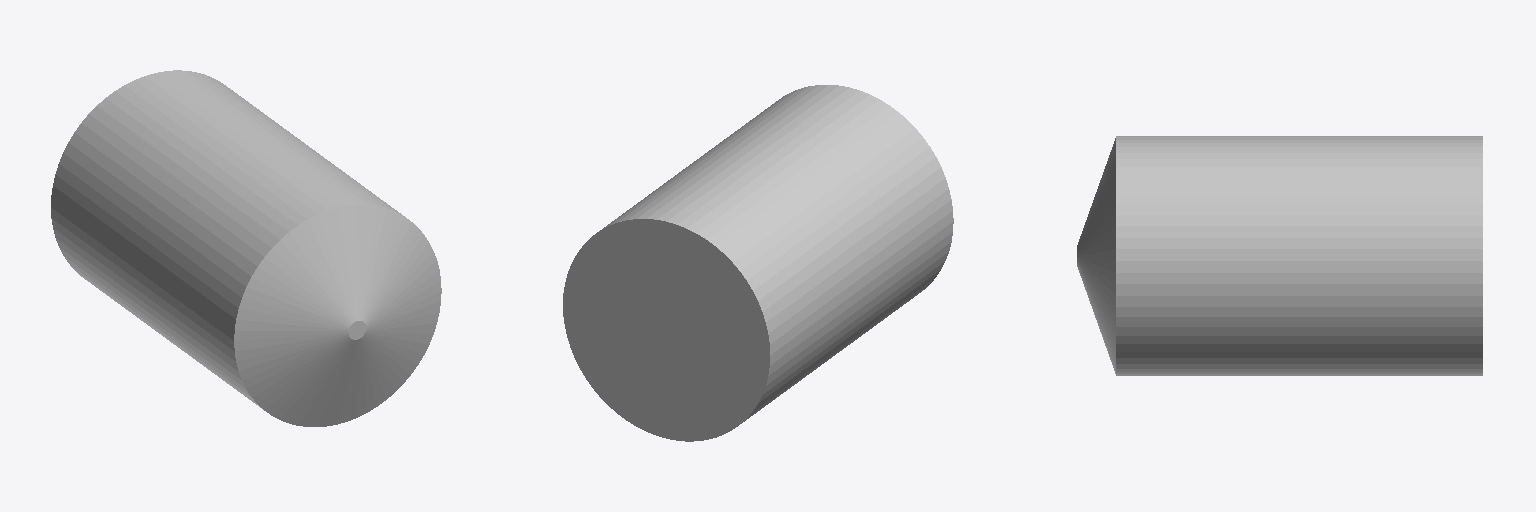
File: Candle1.obj
The picture shows the model from 3 angles: view 1: azimuth 30°, elevation 25°; view 2: azimuth 150°, elevation 25°; view 3: azimuth 270°, elevation 25°; orthographic projection.
Parts seen in each view (by area): view 1: Candle1_Cylinder.004; view 2: Candle1_Cylinder.004; view 3: Candle1_Cylinder.004.
Boxes of the visible parts, <box> form: Candle1_Cylinder.004: <box>51,70,441,426</box>; Candle1_Cylinder.004: <box>563,85,953,441</box>; Candle1_Cylinder.004: <box>1077,136,1482,375</box>.
Size of the model in its own units: 0.1106 by 0.1106 by 0.1872.